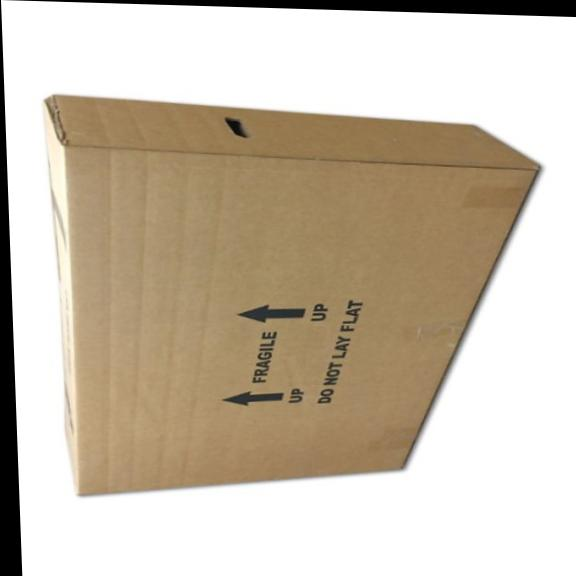Kertas: (48, 90, 553, 511)
